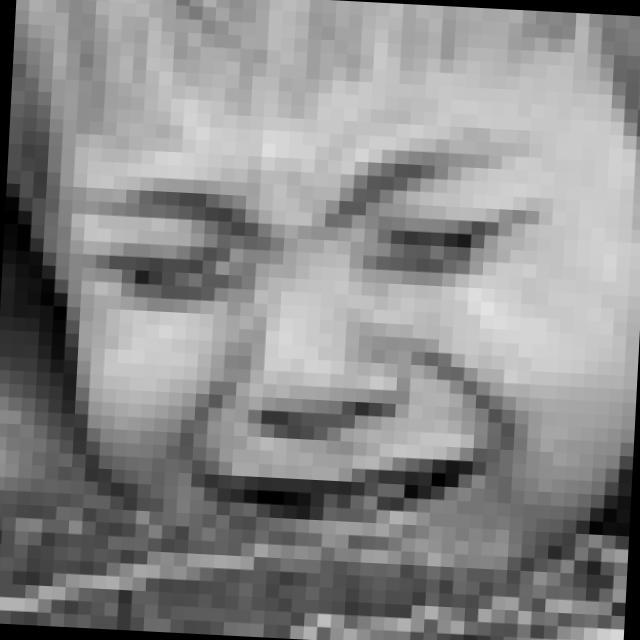sad: (56, 107, 548, 534)
